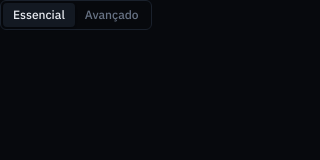
Test: AlternadorModo › salva o modo escolhido nas preferências
The width and height of the screenshot is (320, 160).
Expected: the radio button labelled "Essencial" is checked, 3,3 -> 75,27
Click the radio button labelled "Avançado" at {"x": 112, "y": 14}, box 85,7 -> 139,22
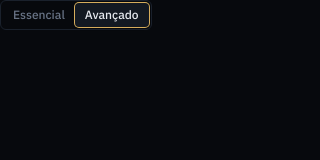
Expected: the radio button labelled "Avançado" is checked, 75,3 -> 149,27
